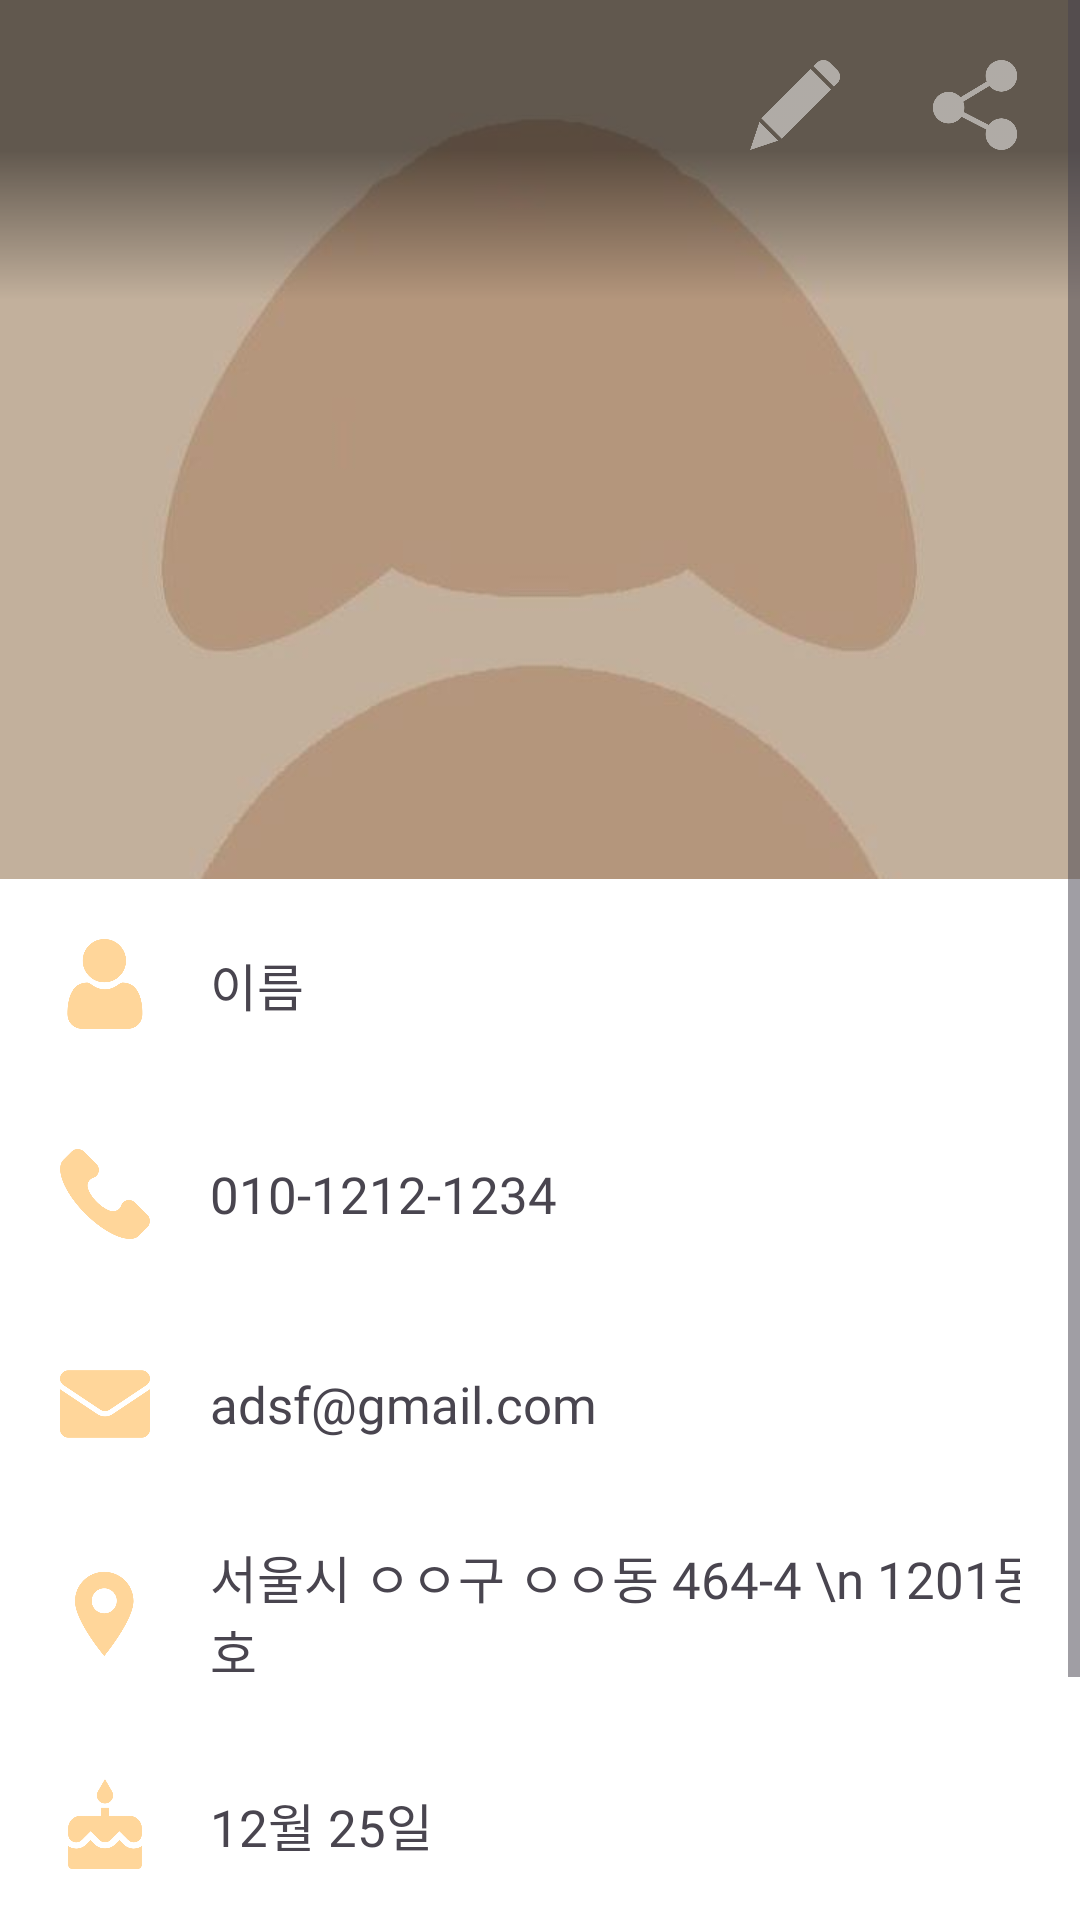

Where to tap for icons on this 1080×1920 app screen, as (x=x, y=y):
address: (x=104, y=1614)
birth: (x=105, y=1824)
call: (x=105, y=1194)
email: (x=105, y=1404)
pen: (x=795, y=105)
share: (x=975, y=105)
user: (x=105, y=984)
